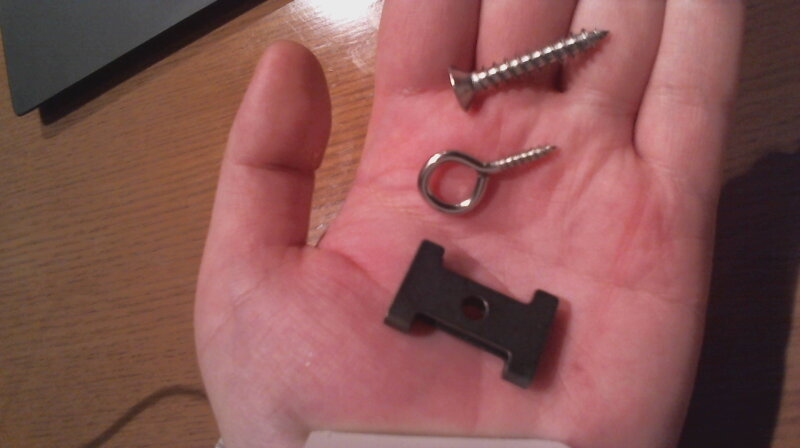O001: (412, 136, 563, 220)
O002: (378, 237, 564, 385)
S001: (442, 26, 613, 117)
